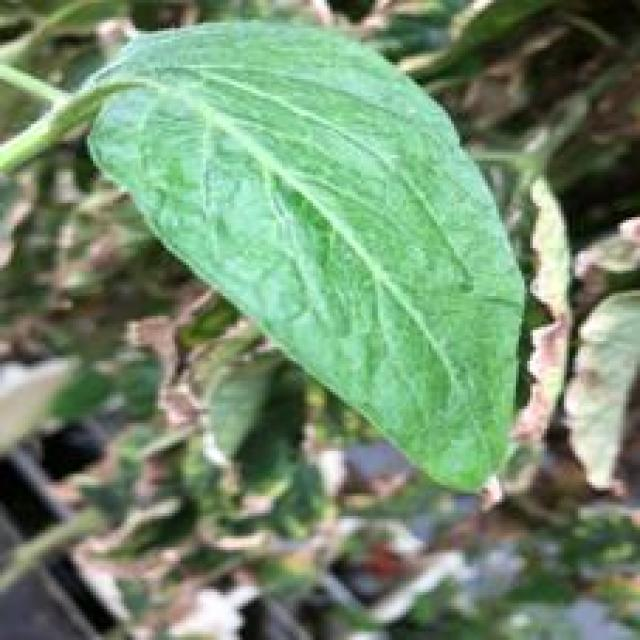Tomato healthy leaf: (85, 20, 527, 496)
